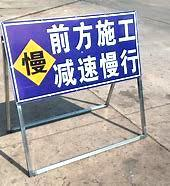sign: (3, 12, 143, 87)
